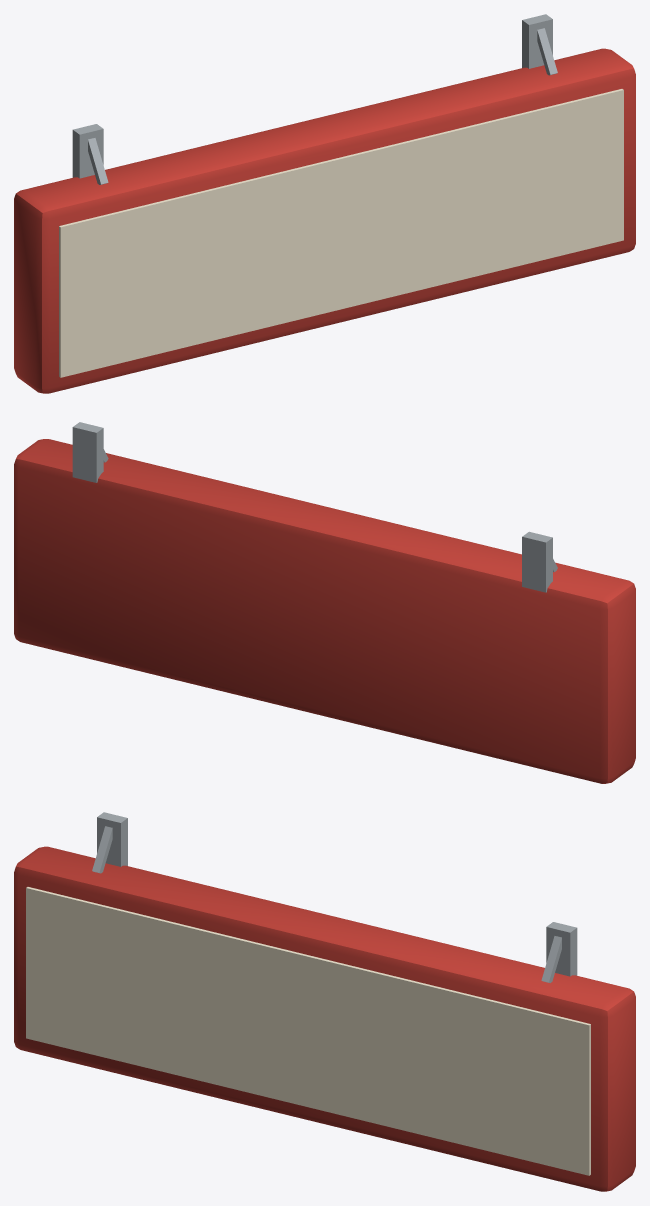
Rendered from sign_lightbox.glb.
The picture shows the model from 3 angles, top to bottom: view 1: azimuth 30°, elevation 25°; view 2: azimuth 150°, elevation 25°; view 3: azimuth 330°, elevation 25°; orthographic projection.
Visible parts, largest first — view 1: sign_lightbox; view 2: sign_lightbox; view 3: sign_lightbox.
Boxes of the visible parts, x1=… form: sign_lightbox: x1=14, y1=14, x2=635, y2=393; sign_lightbox: x1=14, y1=422, x2=635, y2=783; sign_lightbox: x1=14, y1=812, x2=635, y2=1191.
Size of the model in its own units: 2 by 0.74 by 0.19.
